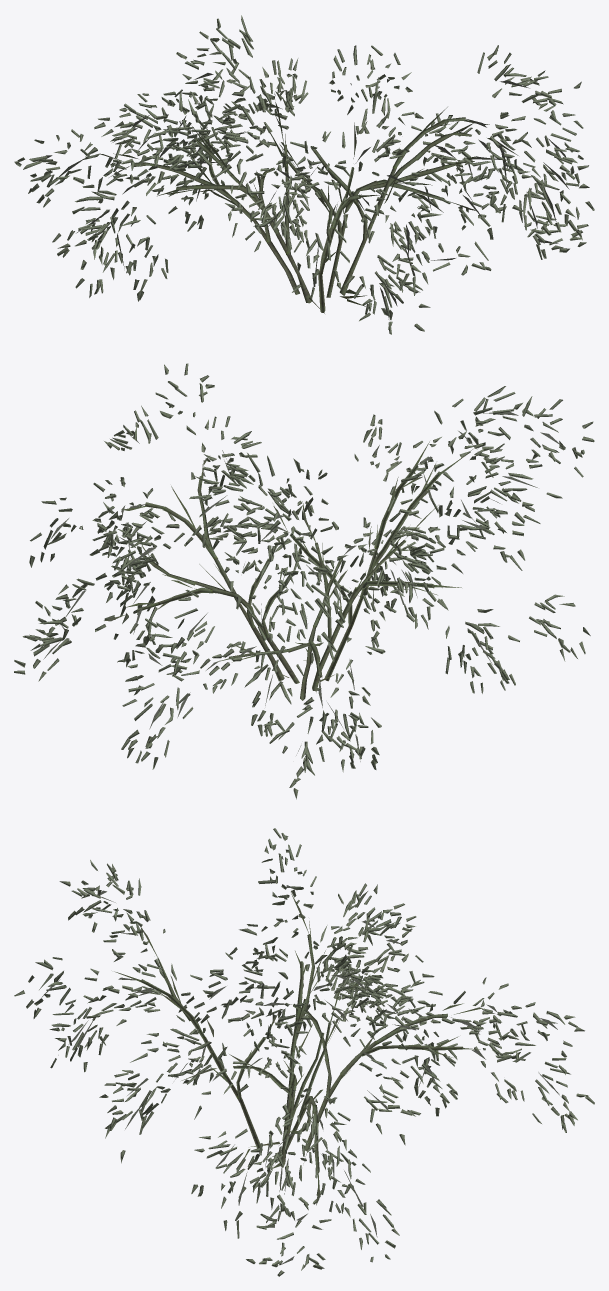
Rendered from SM_Foliage_07.fbx.
3 views of the same model, one above another, from view 1: azimuth 30°, elevation 25°; view 2: azimuth 150°, elevation 25°; view 3: azimuth 270°, elevation 25° (orthographic). The views are drawn at different scales.
Visible parts, largest first — view 1: SM_Foliage_07_LOD0; view 2: SM_Foliage_07_LOD0; view 3: SM_Foliage_07_LOD0.
Part boxes in pixels (<box>): SM_Foliage_07_LOD0: <box>14,15,594,334</box>; SM_Foliage_07_LOD0: <box>14,363,594,799</box>; SM_Foliage_07_LOD0: <box>14,828,594,1276</box>.
Bounding box in the file's own units: 76.44 × 77.18 × 36.81.
Materials: 1 (1 with a texture image).
